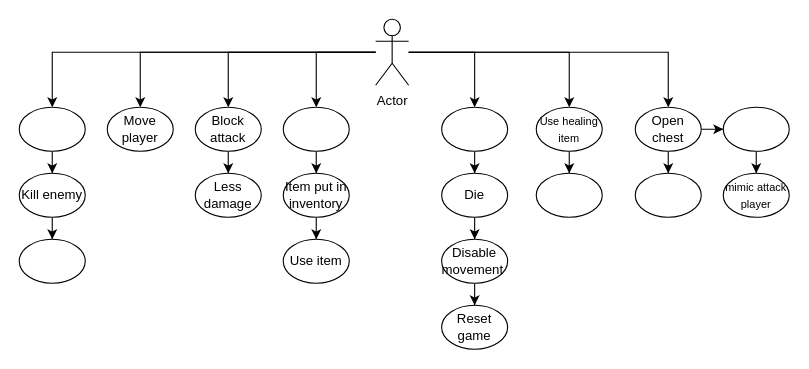
This 809x369 diagram has some shape labels left out. The box of each missing label's shape, as (x1, y1, x2, y2) in pixels:
Attack enemy: (18, 106, 85, 151)
Chance of a mimic: (722, 106, 789, 151)
Drop loot: (18, 238, 85, 283)
Heal: (535, 172, 602, 217)
Pickup item: (282, 106, 349, 151)
Put items in inventory: (634, 172, 701, 217)
Take damage: (441, 106, 508, 151)
